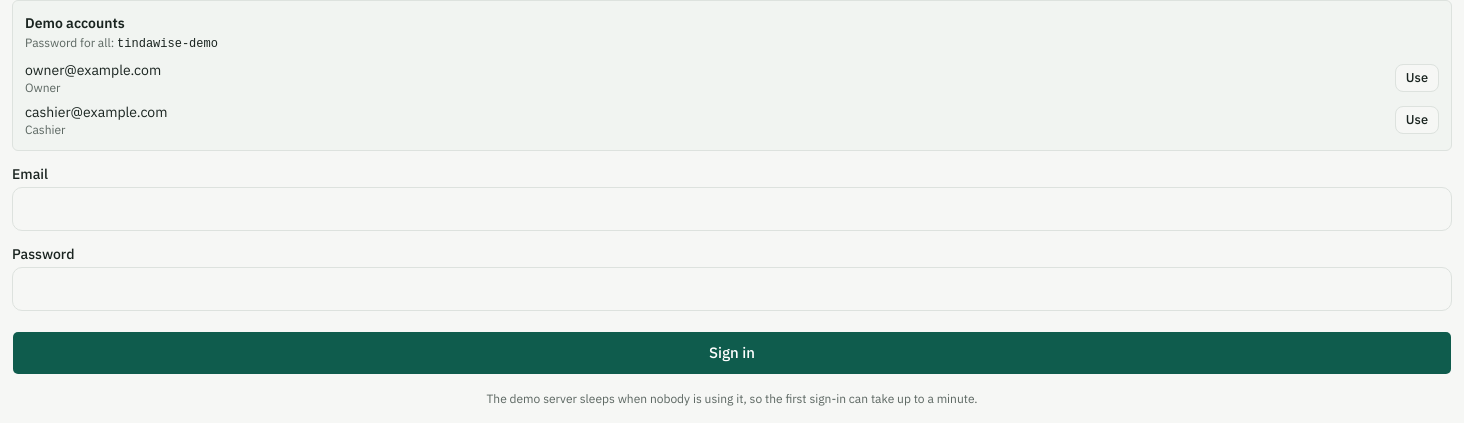
Test: LoginForm on the public demo › lists the demo accounts and fills the form with one click
Expected: the heading "Demo accounts" is shown, 25,14 -> 125,32
Expected: the text "tindawise-demo" is shown, 117,37 -> 218,51
Click the button with aria-label "Use cashier@example.com".
click(1417, 120)  # box 1395,106 -> 1439,134
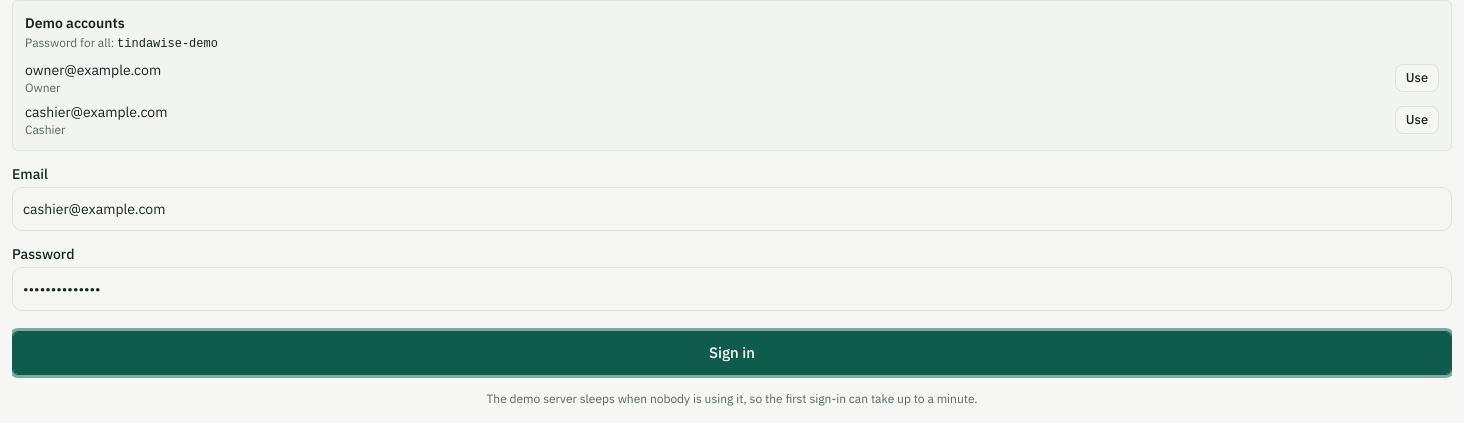
Expected: the field labelled "Email" holds "cashier@example.com", 12,187 -> 1452,231
Expected: the password field labelled "Password" holds "tindawise-demo", 12,267 -> 1452,311
